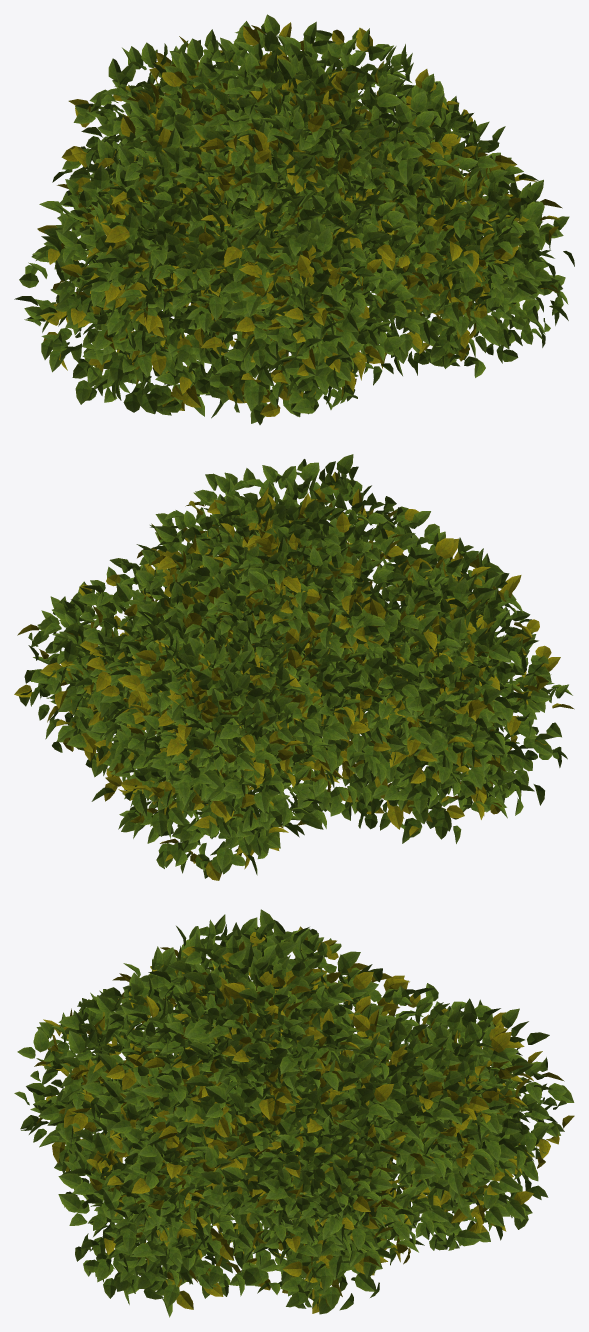
File: BUSH ROUND.fbx
3 views of the same model, one above another, from view 1: azimuth 30°, elevation 25°; view 2: azimuth 150°, elevation 25°; view 3: azimuth 270°, elevation 25° (orthographic). The views are drawn at different scales.
Parts seen in each view (by area): view 1: BUSH ROUND; view 2: BUSH ROUND; view 3: BUSH ROUND.
Part boxes in pixels (x1,y1,x2,y2): BUSH ROUND: (14, 14, 574, 424); BUSH ROUND: (14, 454, 574, 880); BUSH ROUND: (14, 909, 574, 1317).
Size of the model in its own units: 173 by 111 by 169.
